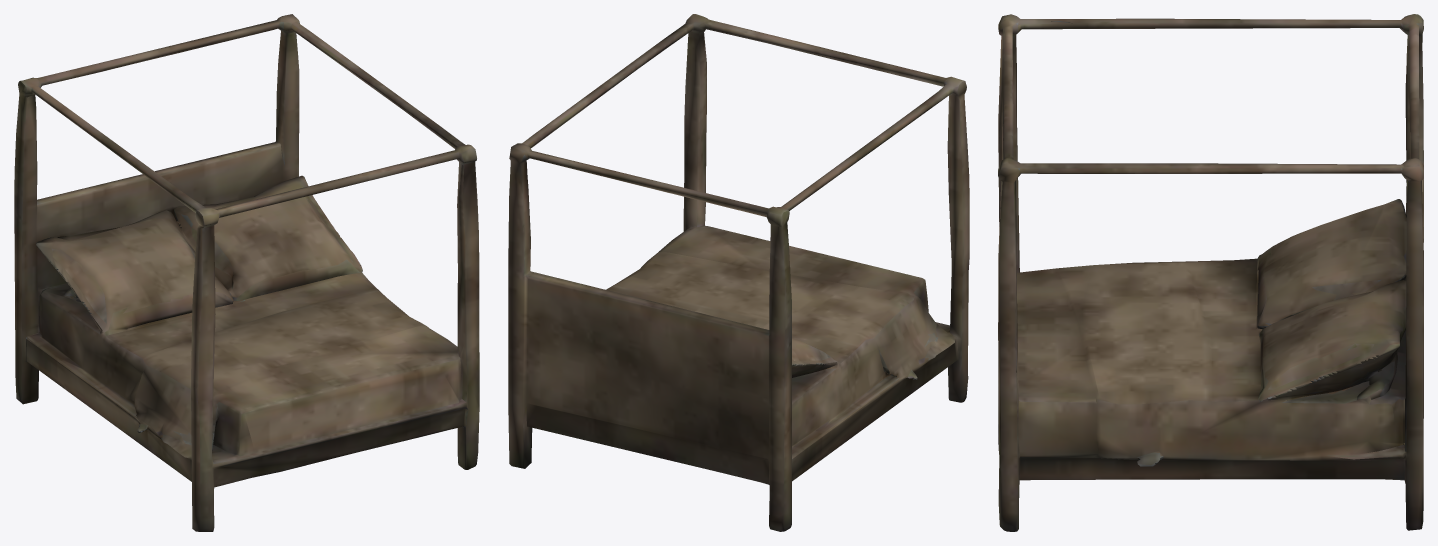
The model's file is simple-wood-four-poster-bed-v002.glb.
3 views of the same model, side by side, from view 1: azimuth 30°, elevation 25°; view 2: azimuth 150°, elevation 25°; view 3: azimuth 270°, elevation 25° (orthographic). The views are drawn at different scales.
Visible parts, largest first — view 1: simple-wood-four-poster-bed; view 2: simple-wood-four-poster-bed; view 3: simple-wood-four-poster-bed.
Boxes of the visible parts, x1,y1,x2,y2 form: simple-wood-four-poster-bed: [14, 14, 479, 531]; simple-wood-four-poster-bed: [508, 14, 969, 531]; simple-wood-four-poster-bed: [998, 14, 1423, 531].
Bounding box in the file's own units: 2.25 × 2.34 × 2.46.
1 material, 1 textured.
